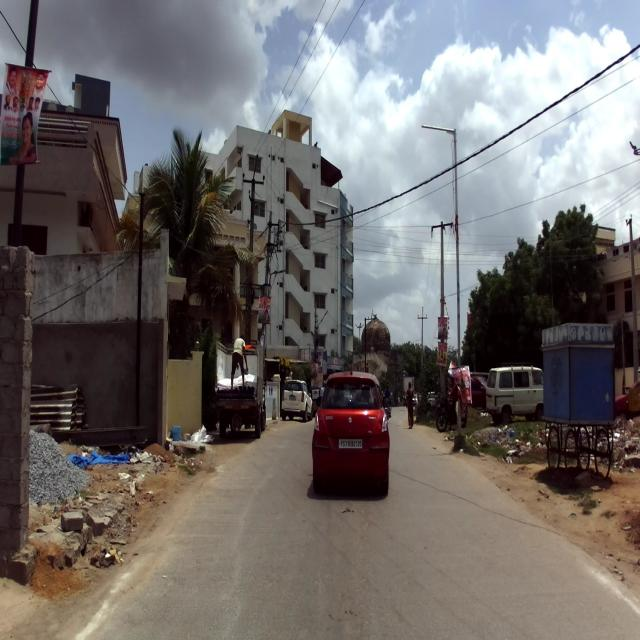car: (311, 363, 391, 492), (486, 363, 544, 426), (281, 378, 313, 422)
truck: (214, 336, 266, 438)
